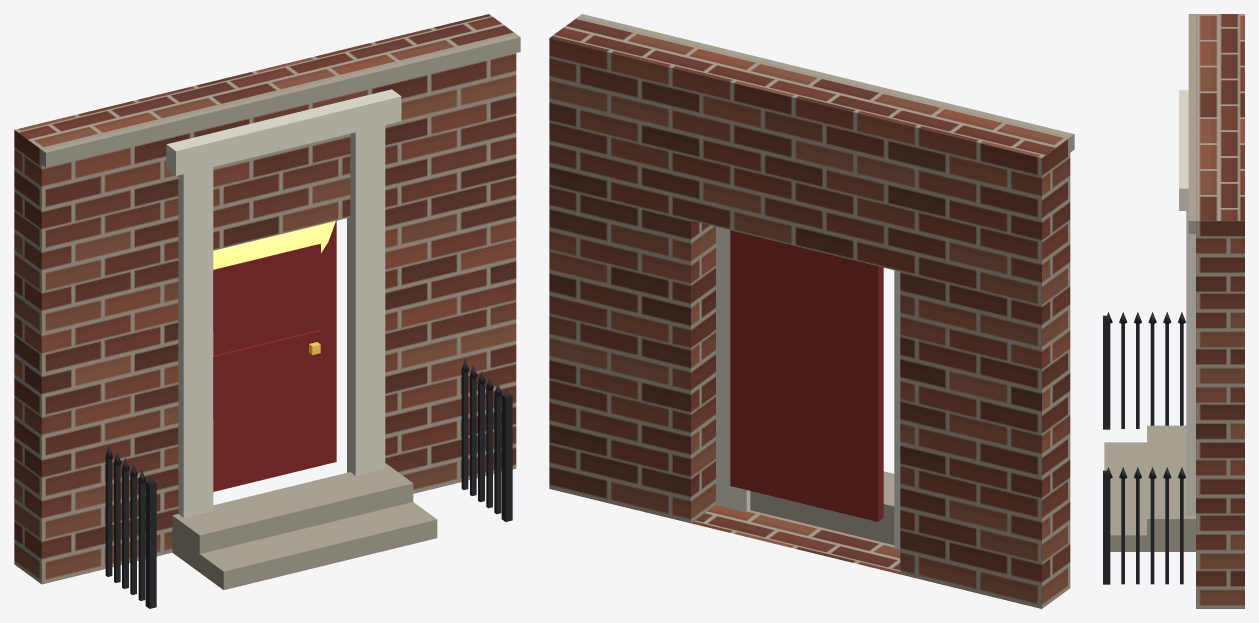
The model's file is ct_door.glb.
The picture shows the model from 3 angles, left to right: view 1: azimuth 30°, elevation 25°; view 2: azimuth 150°, elevation 25°; view 3: azimuth 270°, elevation 25°; orthographic projection. The views are drawn at different scales.
Visible parts, largest first — view 1: city_ct_door; view 2: city_ct_door; view 3: city_ct_door.
Part boxes in pixels (x1=…): city_ct_door: x1=14, y1=14, x2=520, y2=608; city_ct_door: x1=549, y1=14, x2=1074, y2=608; city_ct_door: x1=1103, y1=14, x2=1244, y2=608.
Size of the model in its own units: 4 by 3.5 by 1.16.
Materials: 2 (2 with a texture image).
